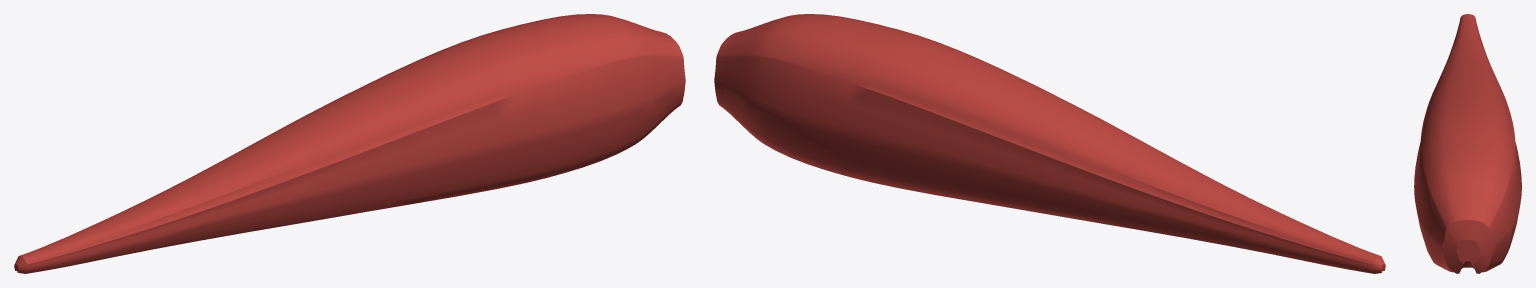
Rendered from chopper_1_lod2.glb.
The picture shows the model from 3 angles, left to right: view 1: azimuth 30°, elevation 25°; view 2: azimuth 150°, elevation 25°; view 3: azimuth 270°, elevation 25°; orthographic projection. The views are drawn at different scales.
Parts seen in each view (by area): view 1: chopper_1_lod2; view 2: chopper_1_lod2; view 3: chopper_1_lod2.
Boxes of the visible parts, x1,y1,x2,y2 form: chopper_1_lod2: (14,14,685,273); chopper_1_lod2: (714,14,1385,273); chopper_1_lod2: (1414,14,1521,273).
Size of the model in its own units: 1.06 by 0.2055 by 0.1851.
